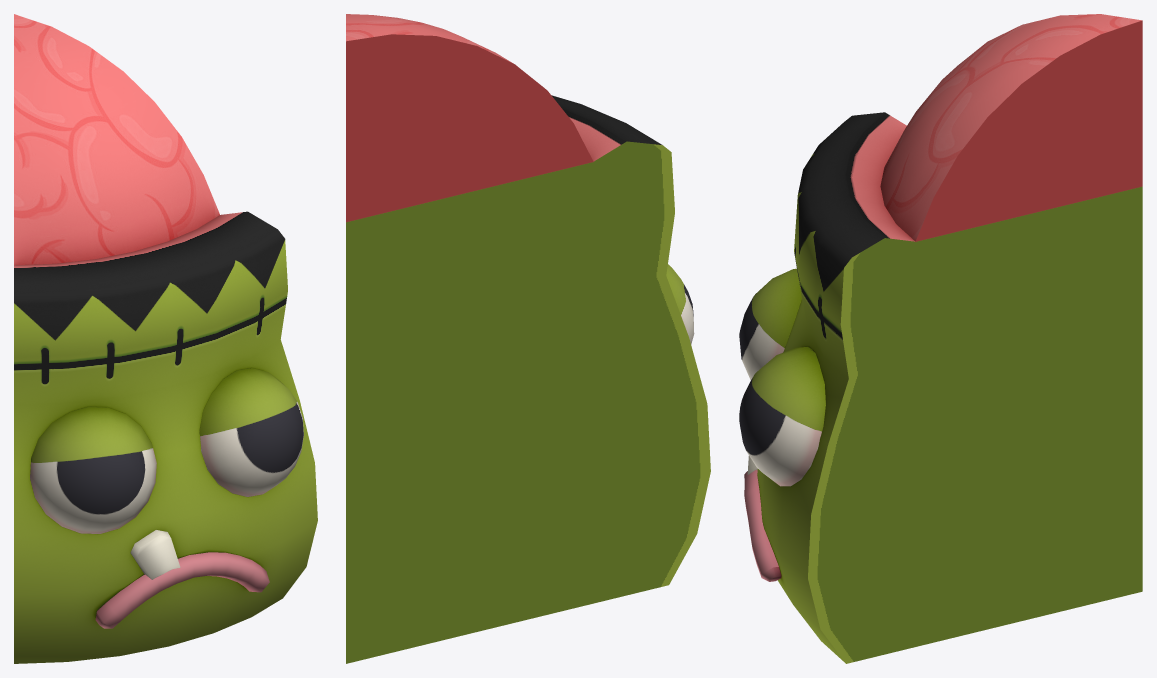
The model's file is cake_75.FBX.
The picture shows the model from 3 angles, left to right: view 1: azimuth 30°, elevation 25°; view 2: azimuth 150°, elevation 25°; view 3: azimuth 270°, elevation 25°; orthographic projection. The views are drawn at different scales.
Visible parts, largest first — view 1: cake_75; view 2: cake_75; view 3: cake_75.
Part boxes in pixels (x1=…): cake_75: x1=14, y1=14, x2=317, y2=663; cake_75: x1=346, y1=14, x2=710, y2=663; cake_75: x1=739, y1=14, x2=1142, y2=663.
Size of the model in its own units: 5.29 by 8.63 by 5.52.
